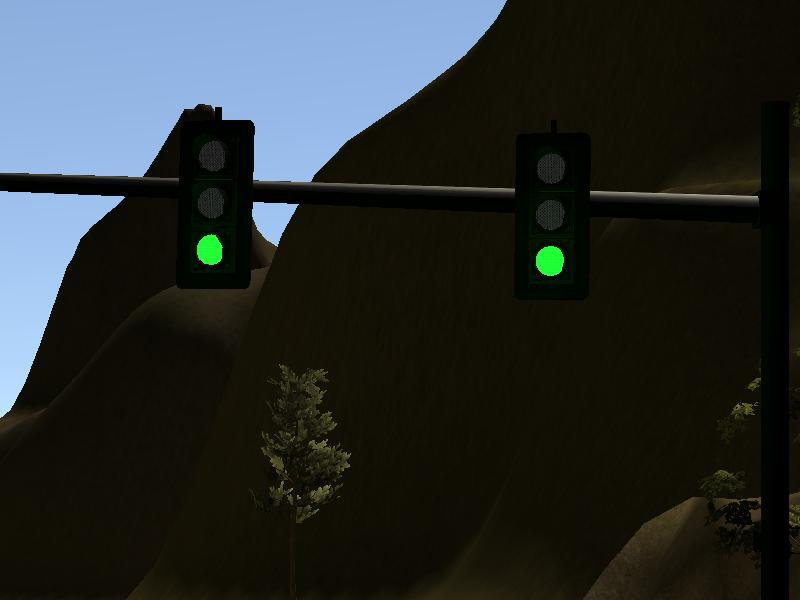Green: (511, 131, 589, 300), (178, 120, 251, 290)
